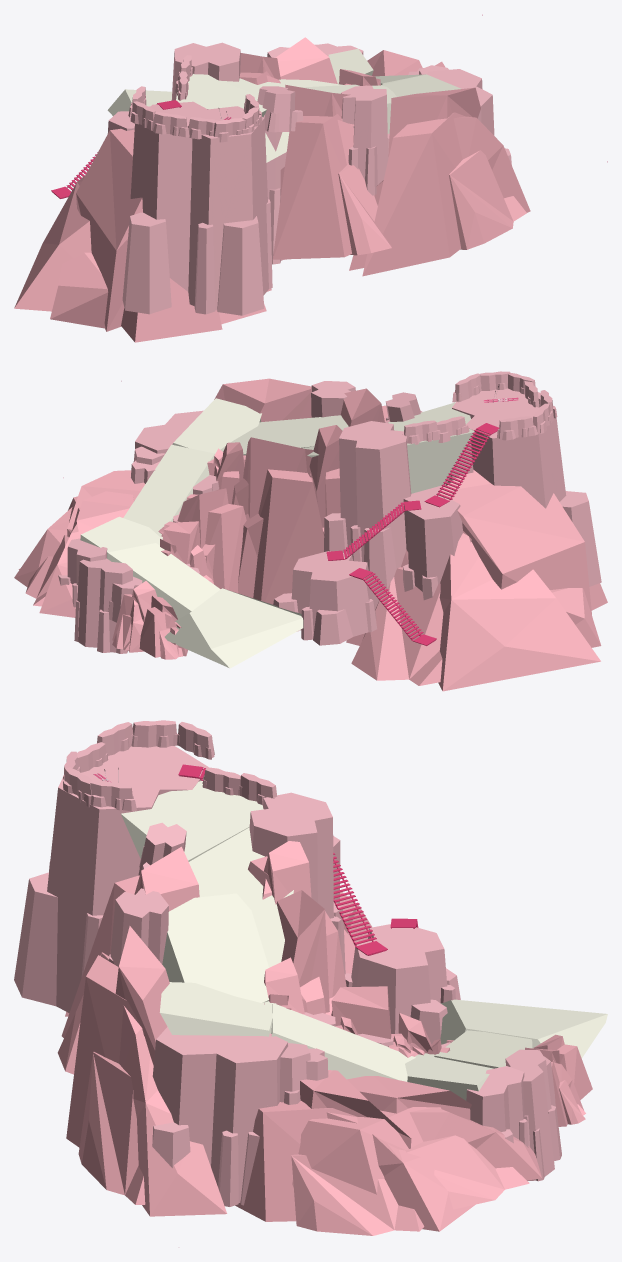
The model's file is skislope.glb.
3 renders of one model, top to bottom at view 1: azimuth 30°, elevation 25°; view 2: azimuth 150°, elevation 25°; view 3: azimuth 270°, elevation 25°, orthographic. The views are drawn at different scales.
Visible parts, largest first — view 1: rockFlat.017, Node.009, Node.021, Node.010, rockFlat.005, rockFlat.009, Node.013, Cube.003, rockFlat.008, rockFlat.004, rockFlat.007, Cube.004 (+11 smaller); view 2: Node.021, Node.013, rockFlat.009, rockFlat.017, rockFlat.016, Cube.007, rockFlat.010, Node.001, Node.020, Cube, Cube.006, rockFlat.012 (+24 smaller); view 3: Node.009, rockFlat.017, Node.002, Node.001, rockFlat.004, Cube.001, rockFlat.016, rockFlat.009, Cube.003, Node.013, Cube.007, Cube.004 (+24 smaller).
Boxes of the visible parts, <box> form: rockFlat.017: <box>122,101,272,315</box>; Node.009: <box>349,87,530,276</box>; Node.021: <box>14,128,271,342</box>; Node.010: <box>272,84,391,259</box>; rockFlat.005: <box>341,85,389,195</box>; rockFlat.009: <box>171,42,240,100</box>; Node.013: <box>275,37,337,83</box>; Cube.003: <box>176,74,266,116</box>; rockFlat.008: <box>257,86,303,132</box>; rockFlat.004: <box>426,69,511,165</box>; rockFlat.007: <box>265,130,286,264</box>; Cube.004: <box>204,74,344,162</box>; Node.021: <box>346,469,607,691</box>; Node.013: <box>232,437,324,604</box>; rockFlat.009: <box>324,421,411,609</box>; rockFlat.017: <box>452,388,601,586</box>; rockFlat.016: <box>273,551,377,645</box>; Cube.007: <box>165,588,303,668</box>; rockFlat.010: <box>403,485,462,600</box>; Node.001: <box>25,491,133,617</box>; Node.020: <box>177,488,246,593</box>; Cube: <box>123,444,214,536</box>; Cube.006: <box>107,543,220,618</box>; rockFlat.012: <box>74,558,132,653</box>; Node.009: <box>66,926,227,1216</box>; rockFlat.017: <box>14,746,208,1012</box>; Node.002: <box>235,1070,475,1235</box>; Node.001: <box>292,1076,541,1209</box>; rockFlat.004: <box>152,1027,287,1206</box>; Cube.001: <box>162,893,268,1002</box>; rockFlat.016: <box>345,924,460,1044</box>; rockFlat.009: <box>249,792,345,974</box>; Cube.003: <box>121,780,263,861</box>; Node.013: <box>276,890,346,1015</box>; Cube.007: <box>440,999,607,1058</box>; Cube.004: <box>189,827,293,967</box>.
Bounding box in the file's own units: 168 × 60.17 × 118.
